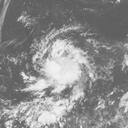cyclone: (25, 39, 90, 97)
